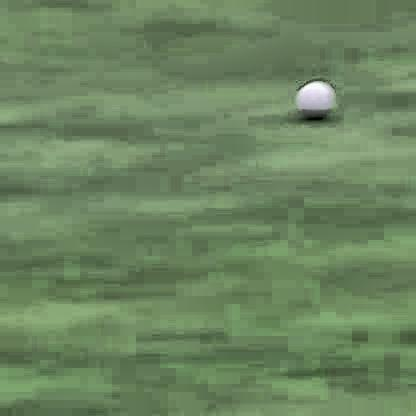golfball: (293, 76, 335, 120)
